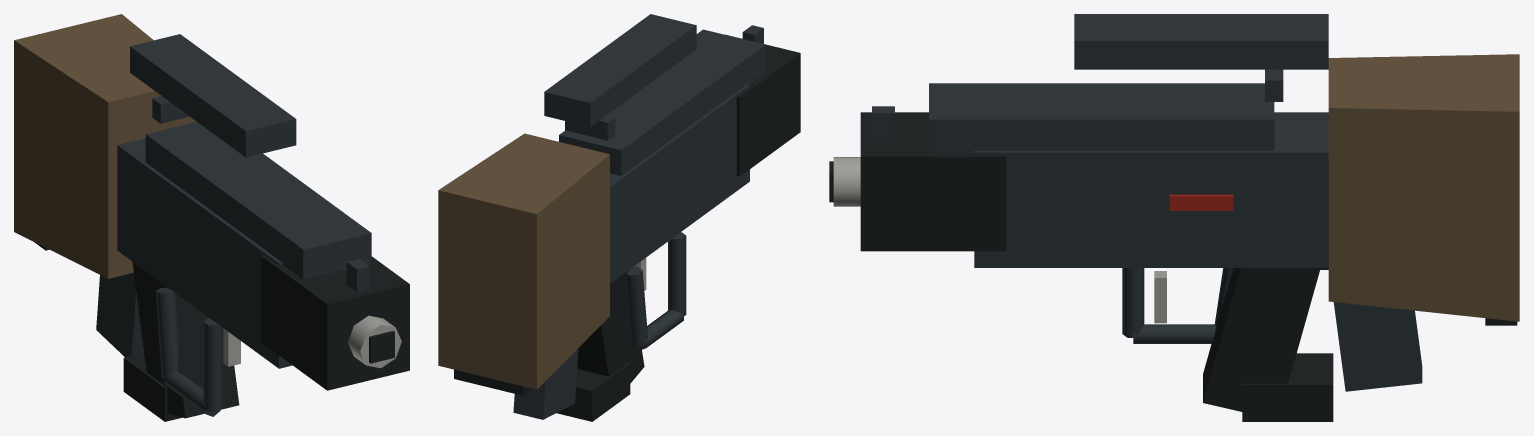
3 renders of one model, left to right at view 1: azimuth 30°, elevation 25°; view 2: azimuth 150°, elevation 25°; view 3: azimuth 270°, elevation 25°, orthographic. The views are drawn at different scales.
Visible parts, largest first — view 1: weapon-smg-2-painted; view 2: weapon-smg-2-painted; view 3: weapon-smg-2-painted.
Boxes of the visible parts, left/top/right/bottom form: weapon-smg-2-painted: left=14, top=14, right=409, bottom=421; weapon-smg-2-painted: left=438, top=14, right=800, bottom=421; weapon-smg-2-painted: left=829, top=14, right=1519, bottom=421.
Bounding box in the file's own units: 0.5925 × 1.82 × 3.
